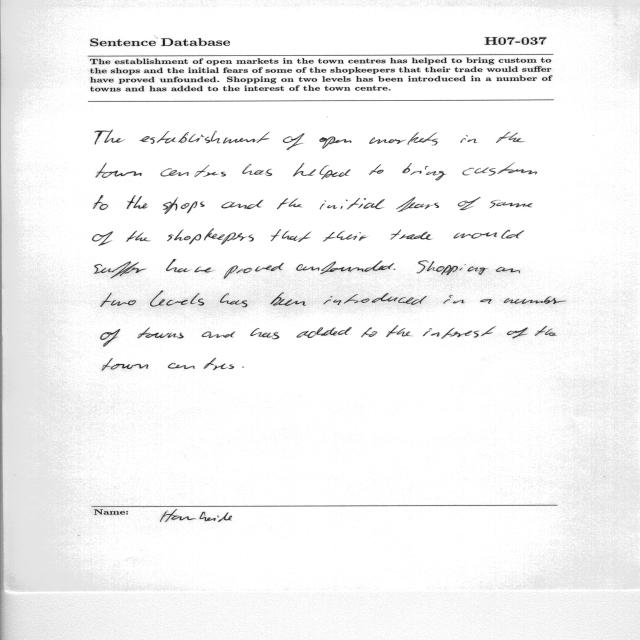word: (139, 131, 270, 144), (167, 228, 254, 245), (296, 261, 394, 274), (323, 293, 427, 305), (417, 261, 488, 276), (463, 162, 538, 176), (369, 132, 438, 146), (224, 263, 284, 279), (423, 326, 495, 339), (293, 163, 351, 179), (94, 262, 147, 279), (150, 291, 204, 307), (160, 165, 226, 177), (168, 358, 234, 370), (402, 163, 447, 180), (320, 198, 385, 209), (96, 163, 142, 178), (163, 198, 204, 214), (396, 197, 439, 212), (454, 230, 525, 239), (166, 259, 214, 272), (297, 327, 352, 338), (102, 358, 148, 371), (270, 230, 311, 243), (138, 328, 184, 339), (270, 292, 306, 306), (504, 296, 566, 304), (101, 293, 136, 307), (323, 231, 367, 242), (391, 229, 433, 240), (95, 130, 125, 145), (320, 136, 352, 149), (222, 200, 264, 209), (220, 294, 247, 308), (242, 164, 272, 176), (283, 133, 304, 150), (490, 200, 533, 208), (101, 329, 120, 346), (251, 328, 280, 339), (386, 325, 412, 337), (496, 132, 524, 143), (458, 197, 481, 210), (127, 195, 148, 209), (277, 198, 303, 209), (93, 232, 113, 246), (126, 231, 150, 242), (202, 331, 235, 338), (507, 328, 528, 339), (93, 195, 108, 210), (535, 326, 557, 336), (444, 295, 465, 303), (369, 164, 384, 175), (361, 328, 377, 338), (496, 267, 520, 273), (461, 135, 478, 143), (480, 299, 492, 304), (242, 366, 244, 368), (394, 269, 396, 270)
